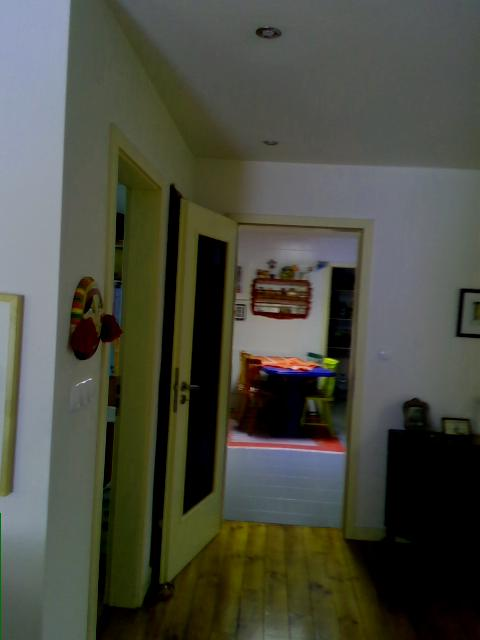open_door: (200, 214, 374, 549)
